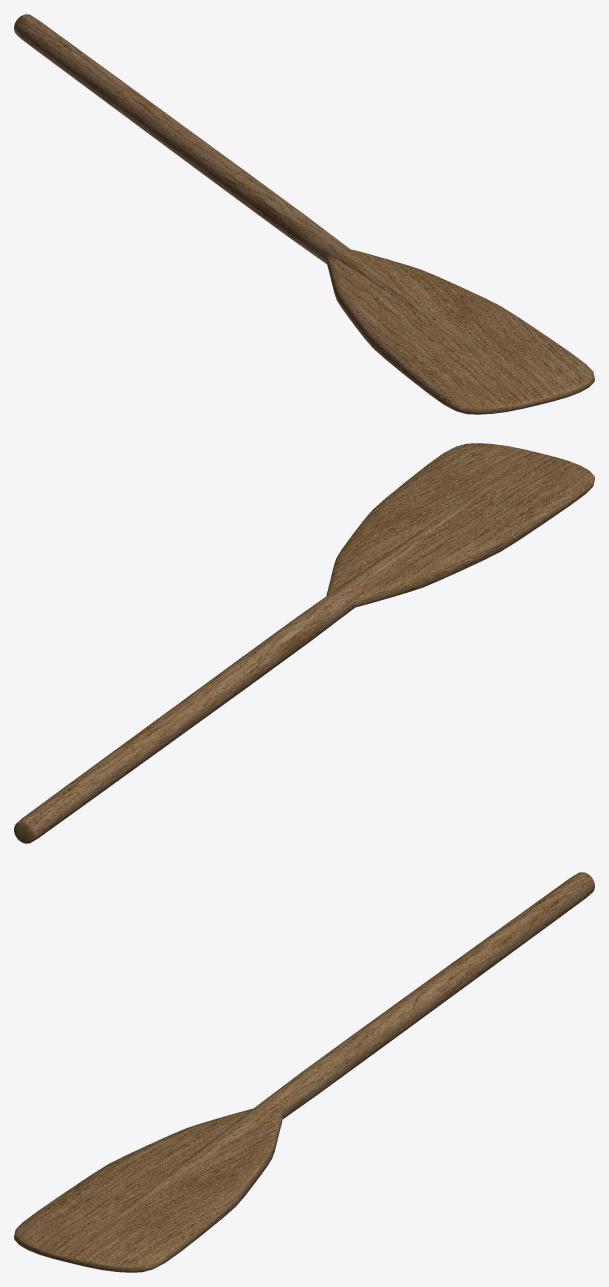
Rendered from Mashot.obj.
The picture shows the model from 3 angles, top to bottom: view 1: azimuth 30°, elevation 25°; view 2: azimuth 150°, elevation 25°; view 3: azimuth 330°, elevation 25°; orthographic projection.
Visible parts, largest first — view 1: Cylinder; view 2: Cylinder; view 3: Cylinder.
Part boxes in pixels (x1=…): Cylinder: x1=14, y1=14, x2=594, y2=414; Cylinder: x1=14, y1=443, x2=594, y2=843; Cylinder: x1=14, y1=872, x2=594, y2=1272.
Size of the model in its own units: 0.8632 by 0.1446 by 5.39.
Materials: 1 (1 with a texture image).
